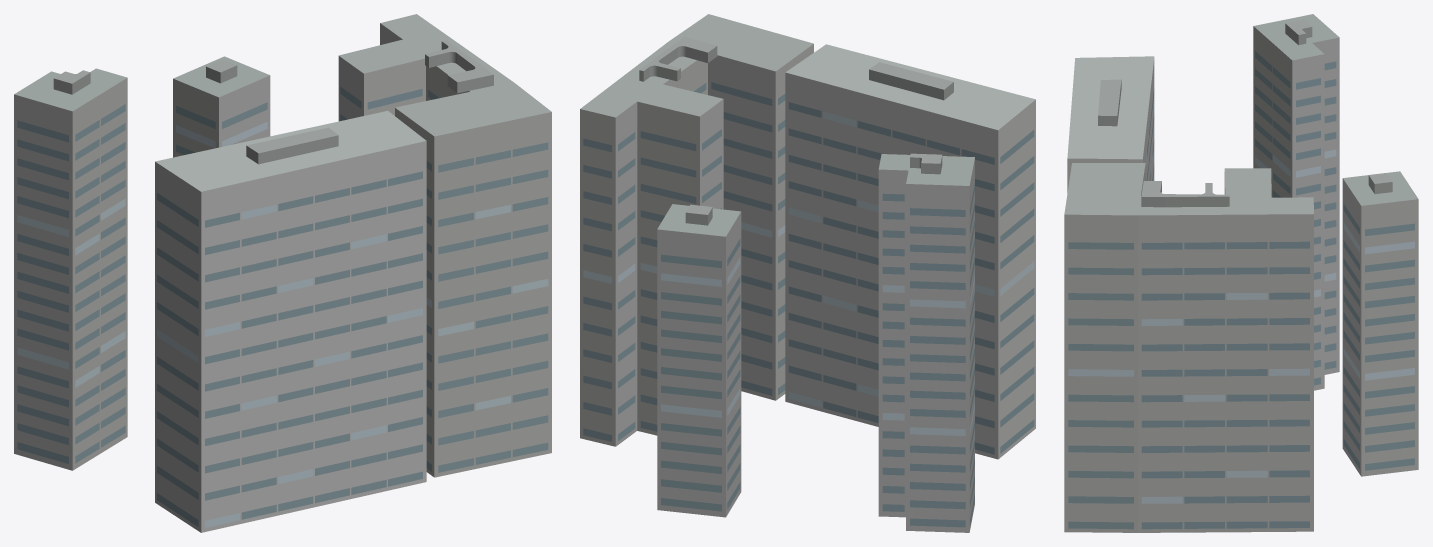
Rendered from apt-a13603501.glb.
3 views of the same model, side by side, from view 1: azimuth 30°, elevation 25°; view 2: azimuth 150°, elevation 25°; view 3: azimuth 270°, elevation 25° (orthographic). The views are drawn at different scales.
Parts seen in each view (by area): view 1: apt-a13603501; view 2: apt-a13603501; view 3: apt-a13603501.
Part boxes in pixels (<box>): apt-a13603501: <box>14,14,551,532</box>; apt-a13603501: <box>580,14,1035,532</box>; apt-a13603501: <box>1064,14,1418,532</box>.
Bounding box in the file's own units: 92.95 × 81 × 75.45.
